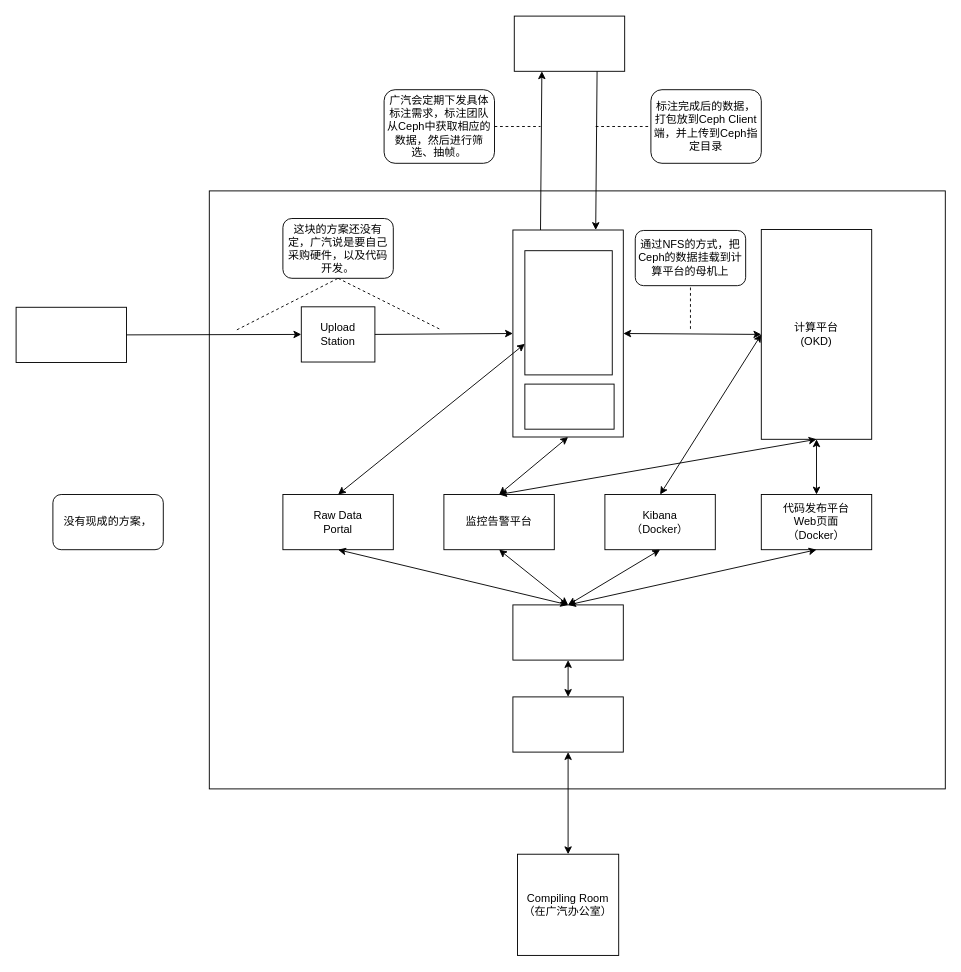
Image size: 961x972. Some labels were removed from this diagram. Each missing label, with the box of its shape:
Ceph: (524, 250, 612, 375)
Ceph Client （数据备份）: (524, 383, 614, 429)
Labeling Platform: (513, 15, 625, 71)
专用采集车: (15, 306, 126, 362)
远程桌面: (512, 696, 623, 752)
防火墙: (512, 604, 623, 660)
